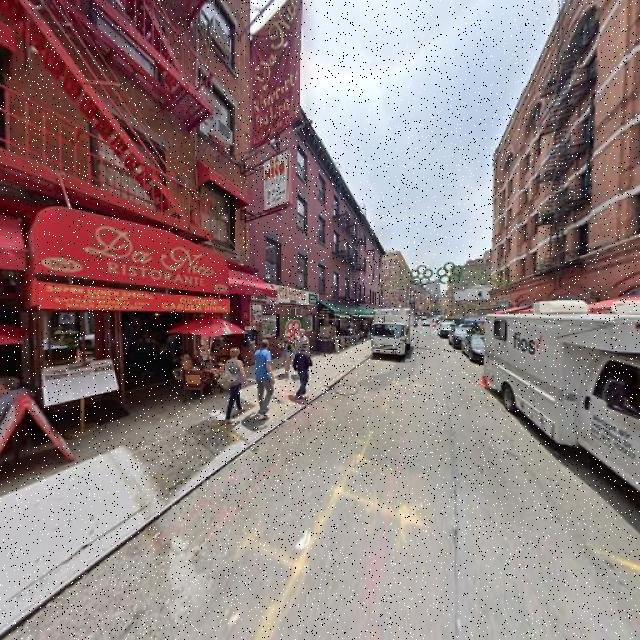Building: (1, 1, 247, 432), (495, 1, 640, 372), (249, 30, 383, 365)
